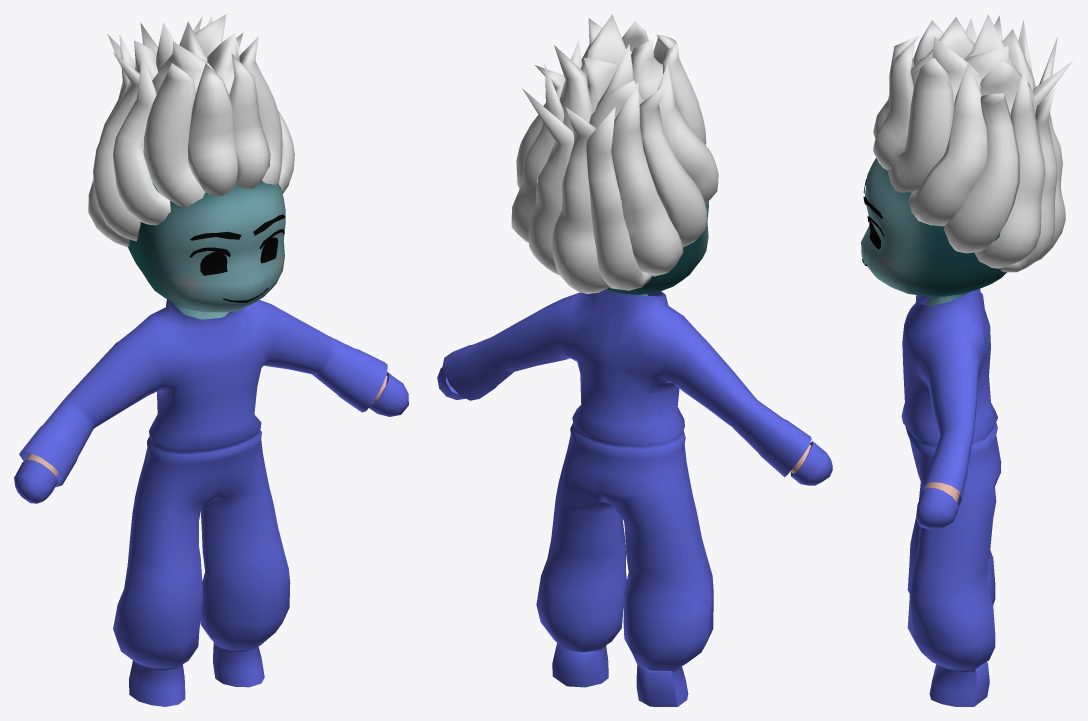
The model's file is U_Team_Model.fbx.
The picture shows the model from 3 angles, left to right: view 1: azimuth 30°, elevation 25°; view 2: azimuth 150°, elevation 25°; view 3: azimuth 270°, elevation 25°; orthographic projection.
Parts seen in each view (by area): view 1: Iron_Team_Outfit.002, Hair_U, Head.001; view 2: Iron_Team_Outfit.002, Hair_U, Head.001; view 3: Hair_U, Iron_Team_Outfit.002, Head.001.
Boxes of the visible parts, bbox=[...] form: Iron_Team_Outfit.002: bbox=[14, 299, 408, 706]; Hair_U: bbox=[88, 14, 294, 247]; Head.001: bbox=[128, 154, 285, 319]; Iron_Team_Outfit.002: bbox=[437, 290, 832, 706]; Hair_U: bbox=[511, 14, 718, 293]; Head.001: bbox=[605, 201, 708, 295]; Hair_U: bbox=[873, 14, 1072, 272]; Iron_Team_Outfit.002: bbox=[901, 289, 1001, 706]; Head.001: bbox=[861, 153, 1006, 305].
Size of the model in its own units: 274 by 444 by 131.
